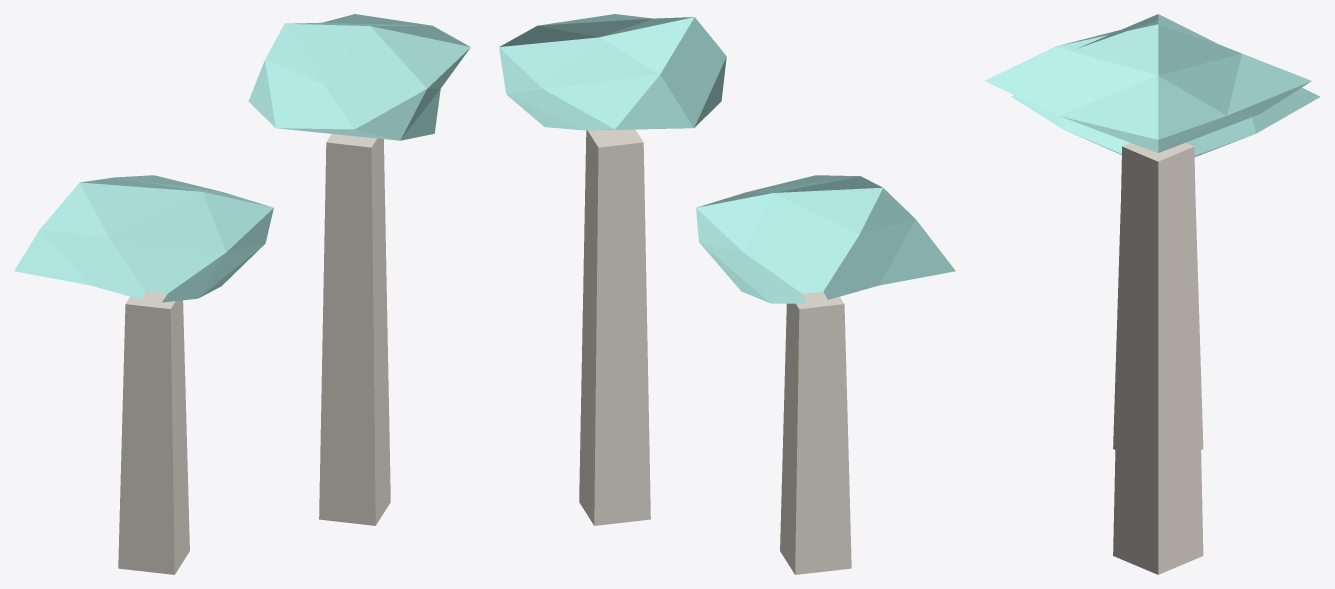
The model's file is glowcap_v00.glb.
3 renders of one model, left to right at view 1: azimuth 30°, elevation 25°; view 2: azimuth 150°, elevation 25°; view 3: azimuth 270°, elevation 25°, orthographic. The views are drawn at different scales.
Parts seen in each view (by area): view 1: lod0; view 2: lod0; view 3: lod0.
Part boxes in pixels (x1,y1,x2,y2): lod0: (14,14,470,574); lod0: (499,14,955,574); lod0: (985,14,1320,574).
Size of what is drawn, in the model's own units: 0.3185 by 0.3309 by 0.1862.
